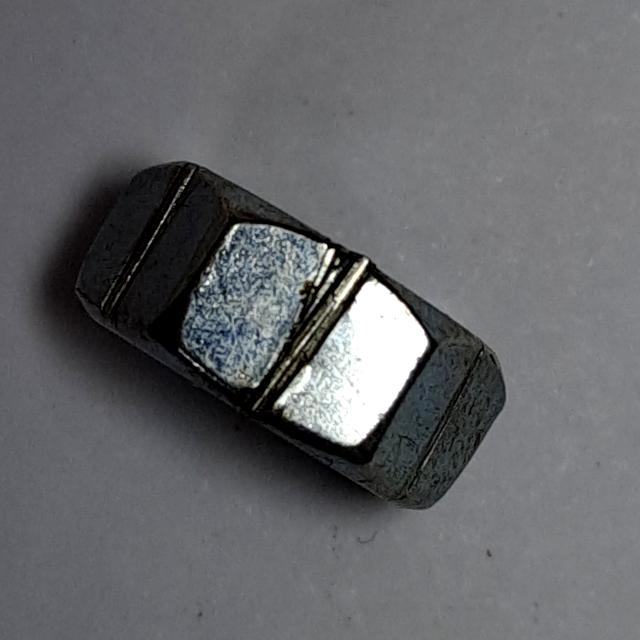Side_Scratches: (68, 149, 516, 519)
